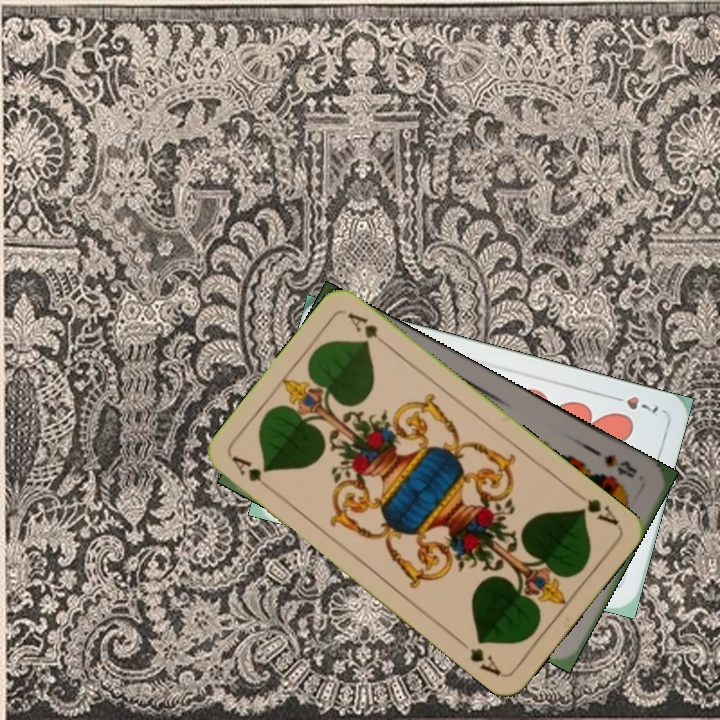GA: (570, 487, 622, 529), (228, 452, 278, 495)
H7: (605, 391, 661, 416)
S8: (599, 449, 640, 481)
